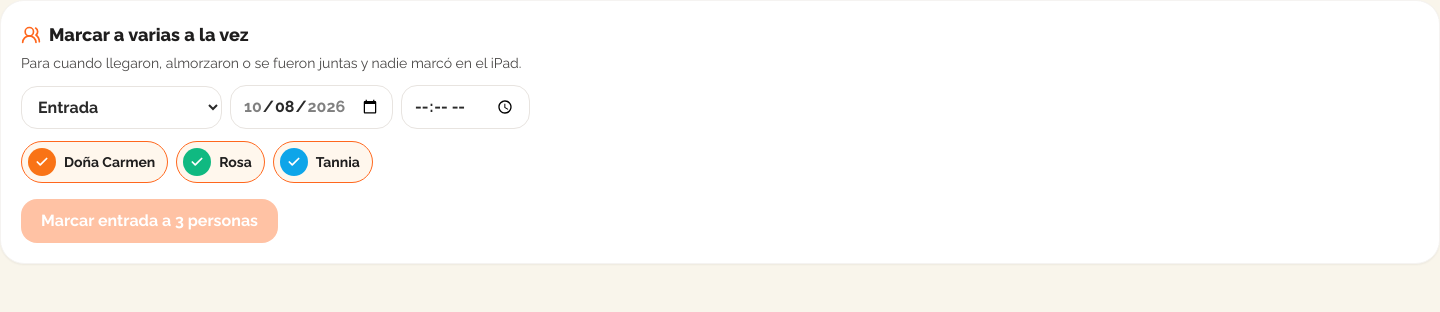
Scenario: marcar a varias a la vez › entrada de todas a las 7:15, sin las que ya no trabajan
In the time field named "Hora": (465, 107) x1=401 y1=85 x2=530 y2=129, type "07:15"
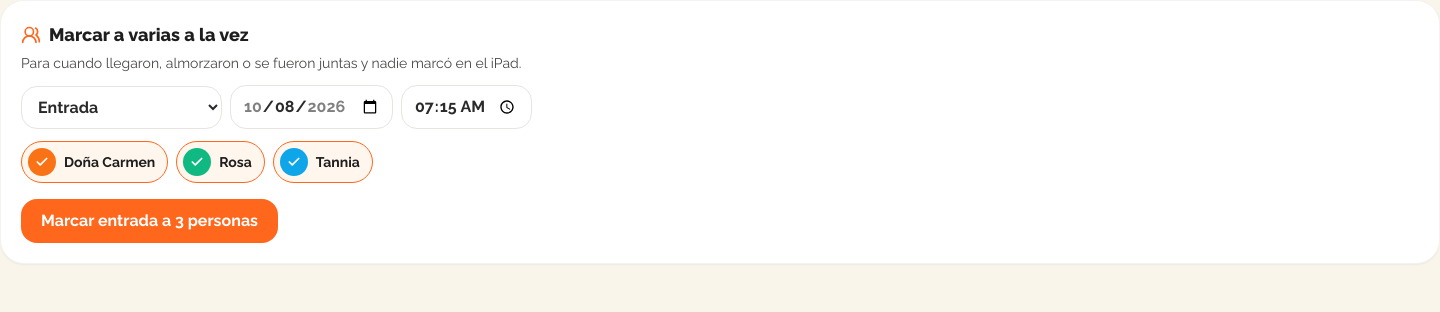
Click the button "Marcar entrada a 3 personas": (150, 221) x1=21 y1=199 x2=278 y2=243
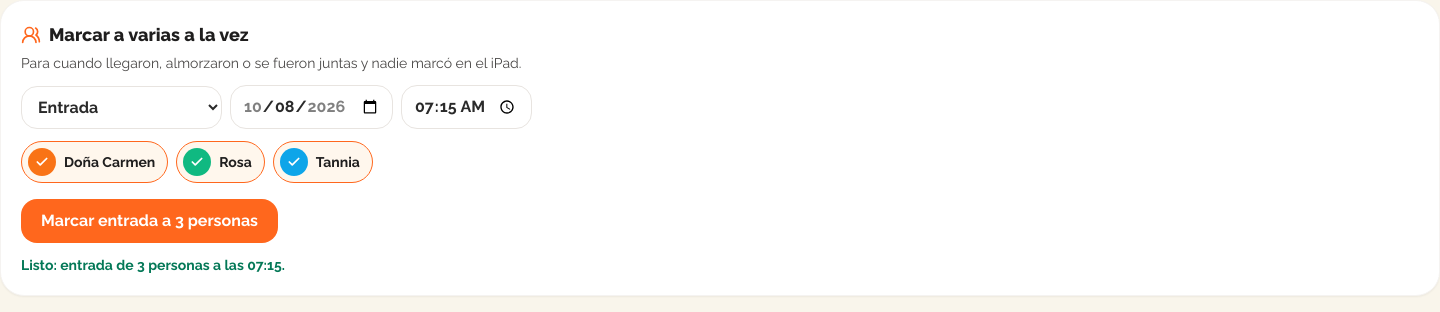
Check: the message reads "Listo: entrada de 3 personas a las 07:15.", box x1=21 y1=257 x2=285 y2=273
